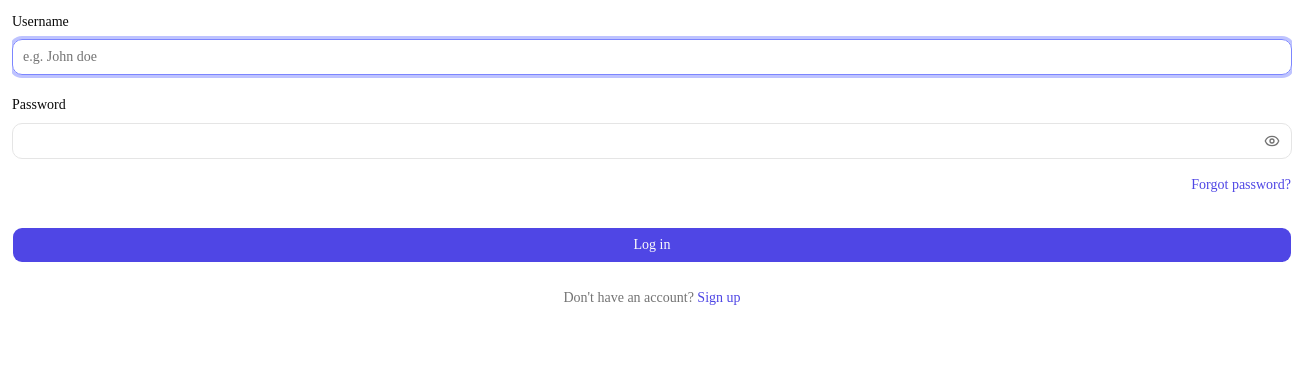
Test: LoginForm › shows an error for wrong credentials and clears the password
Type "demo" into the field labelled "Username" at (652, 57), box [12,39,1292,75]
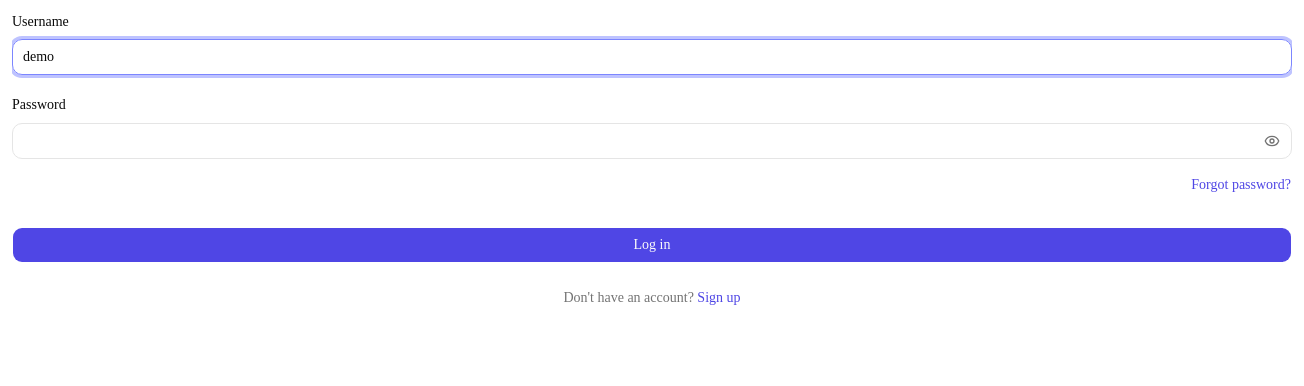
Type "wrong" into the password field labelled "Password" at (634, 140), box [13,124,1256,158]
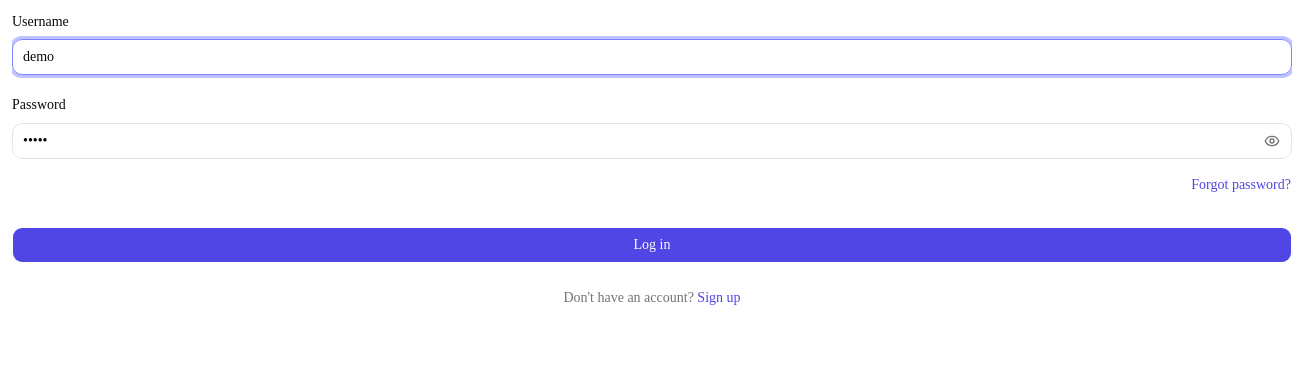
Click the button "Log in" at (652, 244), box [12,226,1292,262]
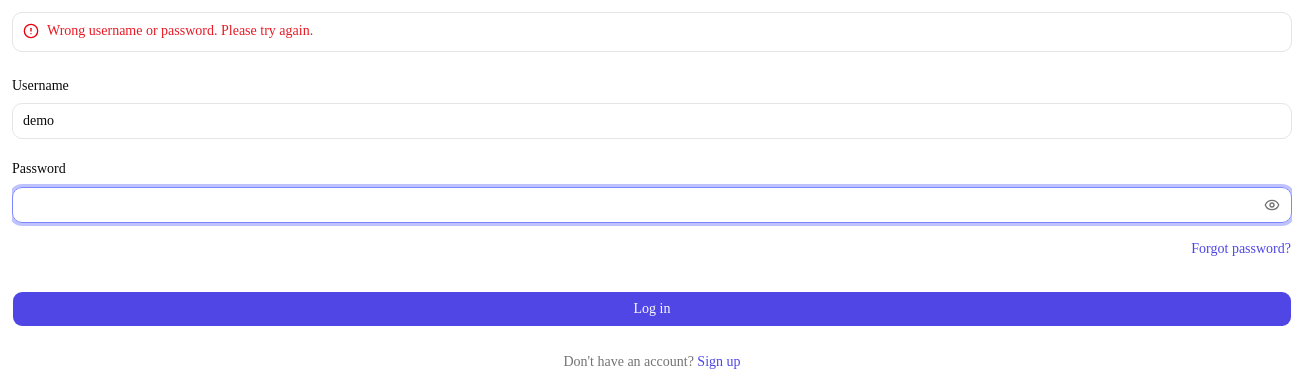
Expected: the password field labelled "Password" is empty, [13,188,1256,222]
Expected: the message reads "Wrong username or password. Please try again.", [47,23,313,38]
